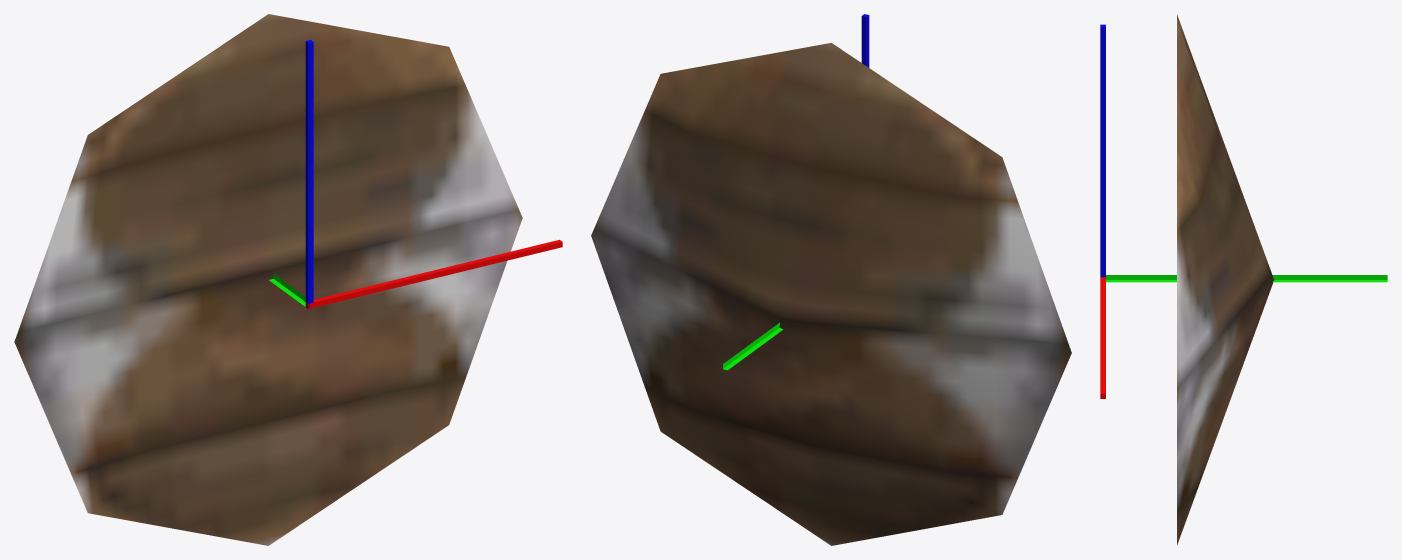
The model's file is shield.glb.
3 views of the same model, side by side, from view 1: azimuth 30°, elevation 25°; view 2: azimuth 150°, elevation 25°; view 3: azimuth 270°, elevation 25° (orthographic). The views are drawn at different scales.
Visible parts, largest first — view 1: attachments g shield small bronzeModel, Dummy_hotspot; view 2: attachments g shield small bronzeModel, Dummy_hotspot; view 3: attachments g shield small bronzeModel, Dummy_hotspot.
Boxes of the visible parts, x1,y1,x2,y2 form: attachments g shield small bronzeModel: (14,14,522,545); Dummy_hotspot: (269,40,562,308); attachments g shield small bronzeModel: (591,43,1071,545); Dummy_hotspot: (723,14,869,370); attachments g shield small bronzeModel: (1177,15,1273,544); Dummy_hotspot: (1100,24,1387,398).
Size of the model in its own units: 0.5 by 0.5 by 0.255.
2 materials, 1 textured.
